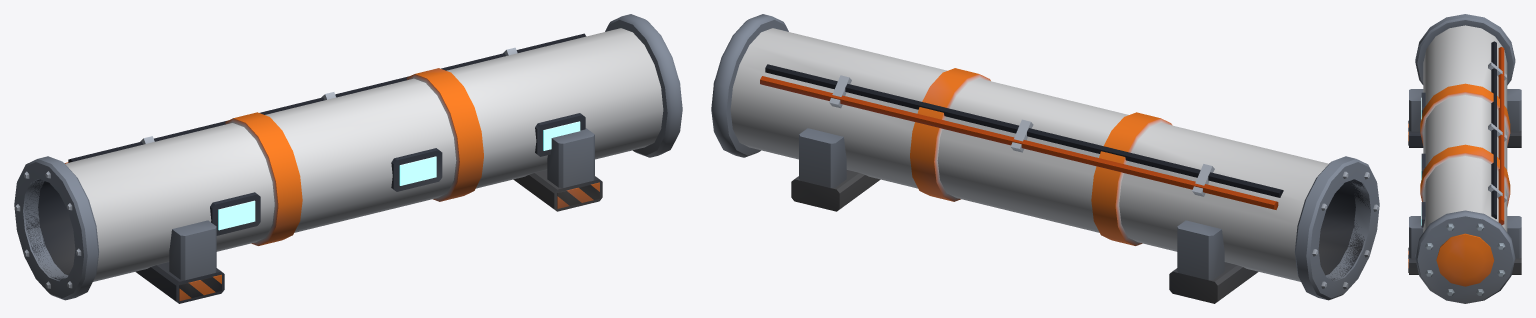
File: log_space.glb
The picture shows the model from 3 angles, left to right: view 1: azimuth 30°, elevation 25°; view 2: azimuth 150°, elevation 25°; view 3: azimuth 270°, elevation 25°; orthographic projection. The views are drawn at different scales.
Visible parts, largest first — view 1: log_space; view 2: log_space; view 3: log_space.
Part boxes in pixels (bbox=[...]): log_space: bbox=[14, 14, 682, 303]; log_space: bbox=[711, 14, 1379, 303]; log_space: bbox=[1408, 14, 1521, 303].
Bounding box in the file's own units: 4.01 × 0.83 × 0.942.
